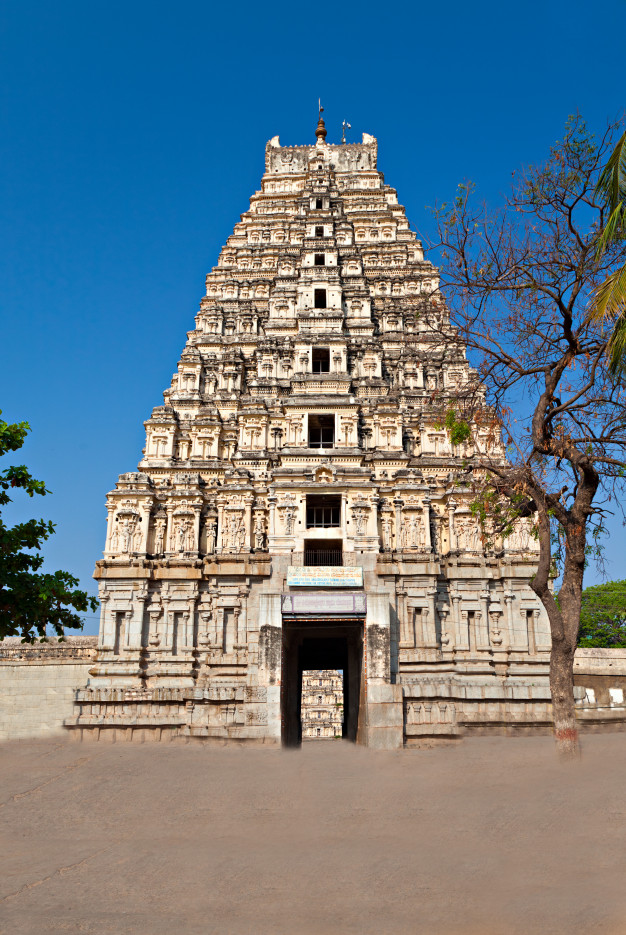Temple: (76, 73, 553, 730)
